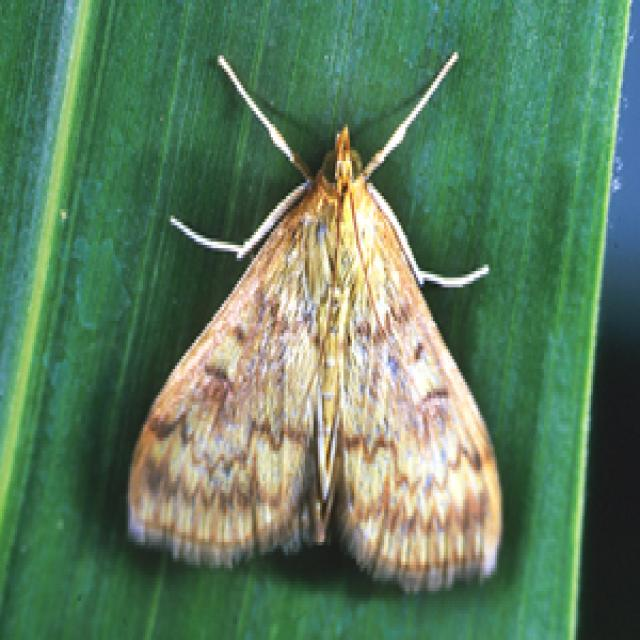cornborer-Adult-: (118, 27, 536, 601)
